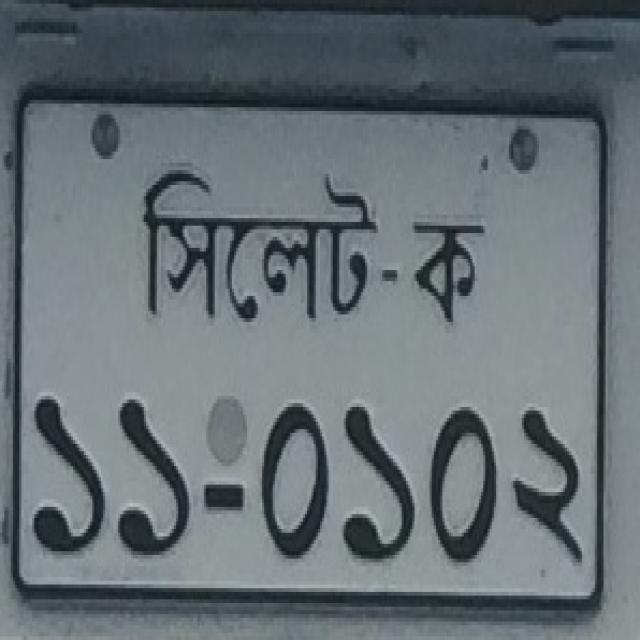cng: (141, 167, 378, 322), (411, 219, 485, 322)
numberplate: (11, 86, 607, 607)
